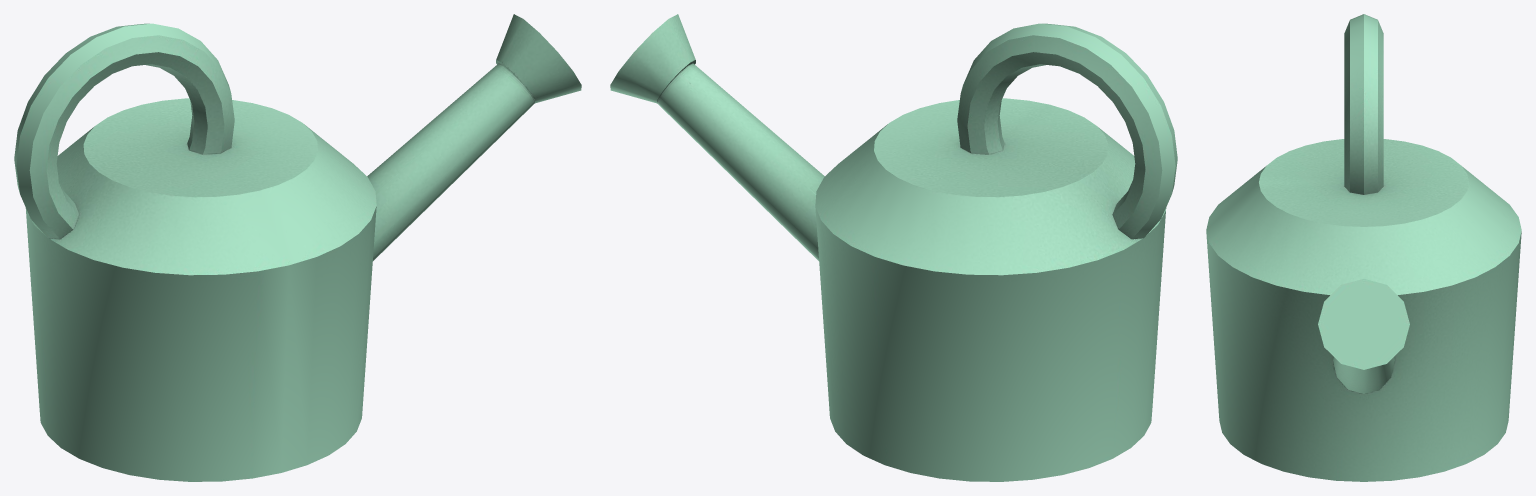
File: watering_can.glb
The picture shows the model from 3 angles, left to right: view 1: azimuth 30°, elevation 25°; view 2: azimuth 150°, elevation 25°; view 3: azimuth 270°, elevation 25°; orthographic projection. The views are drawn at different scales.
Visible parts, largest first — view 1: watering_can; view 2: watering_can; view 3: watering_can.
Boxes of the visible parts, x1,y1,x2,y2 form: watering_can: (14,14,581,481); watering_can: (610,14,1177,481); watering_can: (1206,14,1521,481).
Size of the model in its own units: 0.4365 by 0.305 by 0.24.
1 material, 1 textured.
